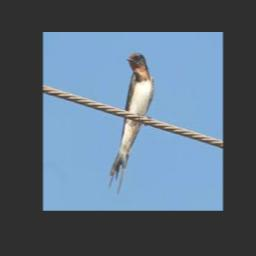Swallow: (109, 52, 154, 194)
